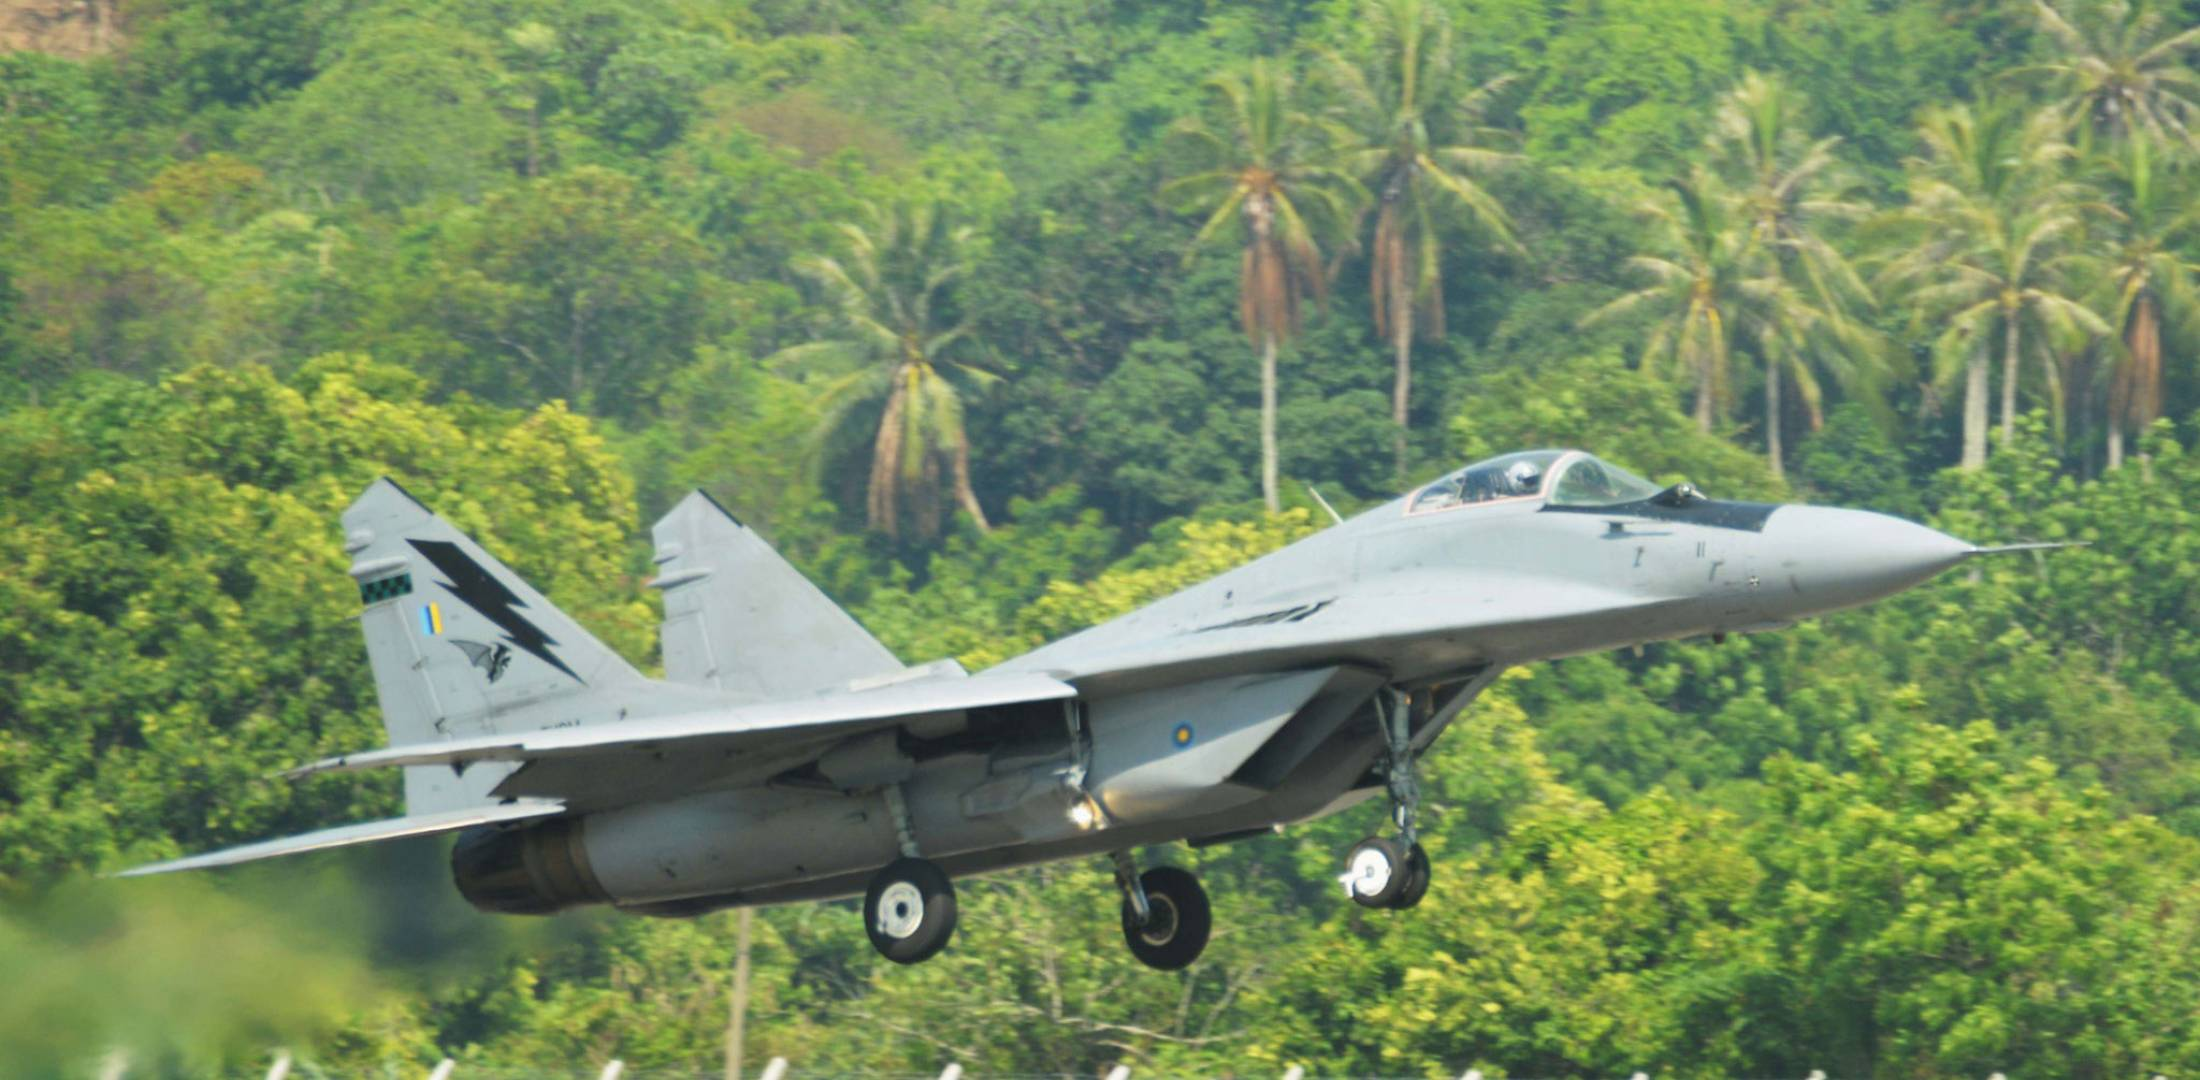Mig-29: (119, 330, 2199, 978)
